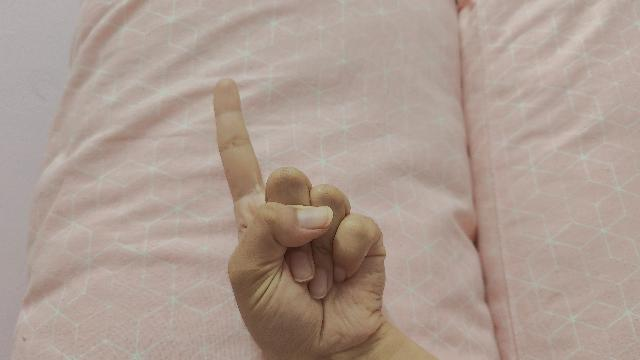soochi: (216, 79, 437, 360)
